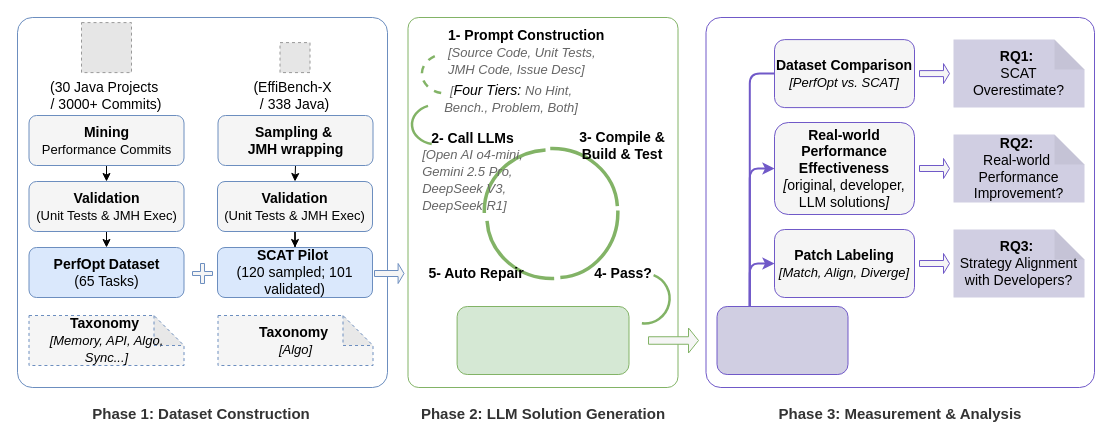
The diagram is 1112 pixels wide and 446 high, and some of its shapes have lost their labels. Grey dashed boxes stand in for pictures. The shapes that lost their labels are listed below. From the top down, each one's centre as x and y in pixels, then its label:
At point (542, 340): "Plausible Patches".
At point (782, 340): "JMH Execution (10 Warmup + 50 Meas.)".
